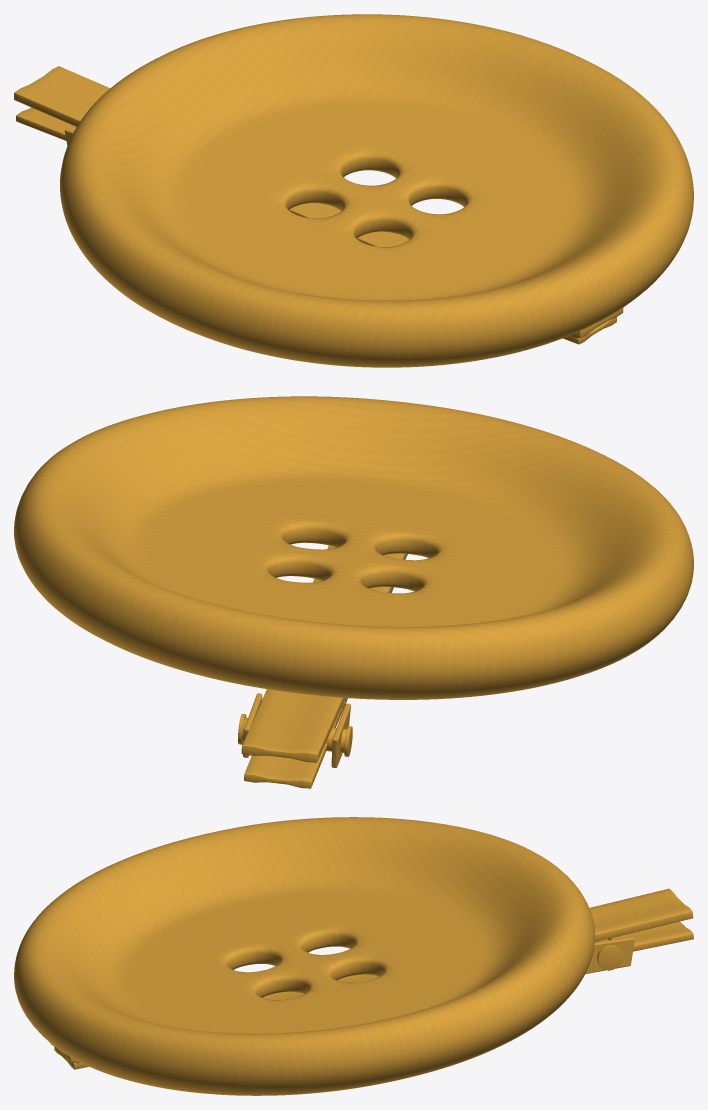
File: HairClip_FullGold.glb
The picture shows the model from 3 angles, top to bottom: view 1: azimuth 30°, elevation 25°; view 2: azimuth 150°, elevation 25°; view 3: azimuth 270°, elevation 25°; orthographic projection. The views are drawn at different scales.
Visible parts, largest first — view 1: HairClip_FullGold__Pink_Four_Hole_Button, HairClip_FullGold__Fixed_Serrated_Jaw, HairClip_FullGold__Moving_Jaw_Static_Pose; view 2: HairClip_FullGold__Pink_Four_Hole_Button, HairClip_FullGold__Fixed_Serrated_Jaw, HairClip_FullGold__Moving_Jaw_Static_Pose; view 3: HairClip_FullGold__Pink_Four_Hole_Button, HairClip_FullGold__Fixed_Serrated_Jaw, HairClip_FullGold__Moving_Jaw_Static_Pose, HairClip_FullGold__Pivot_Cheek_R, HairClip_FullGold__Pivot_Head_R.
Boxes of the visible parts, bbox=[...] form: HairClip_FullGold__Pink_Four_Hole_Button: bbox=[60, 14, 693, 367]; HairClip_FullGold__Fixed_Serrated_Jaw: bbox=[14, 66, 623, 338]; HairClip_FullGold__Moving_Jaw_Static_Pose: bbox=[16, 107, 616, 344]; HairClip_FullGold__Pink_Four_Hole_Button: bbox=[14, 396, 693, 699]; HairClip_FullGold__Fixed_Serrated_Jaw: bbox=[241, 545, 407, 762]; HairClip_FullGold__Moving_Jaw_Static_Pose: bbox=[244, 556, 406, 788]; HairClip_FullGold__Pink_Four_Hole_Button: bbox=[14, 817, 595, 1095]; HairClip_FullGold__Fixed_Serrated_Jaw: bbox=[49, 888, 693, 1063]; HairClip_FullGold__Moving_Jaw_Static_Pose: bbox=[54, 921, 693, 1069]; HairClip_FullGold__Pivot_Cheek_R: bbox=[585, 937, 634, 973]; HairClip_FullGold__Pivot_Head_R: bbox=[597, 945, 622, 970].
Size of the model in its own units: 39.88 by 8.6 by 46.52.
Materials: 1 (1 with a texture image).
